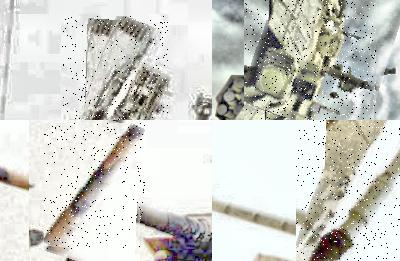tanks: (246, 1, 376, 121), (297, 121, 400, 261), (45, 125, 146, 250), (80, 17, 168, 121), (107, 249, 126, 261)
